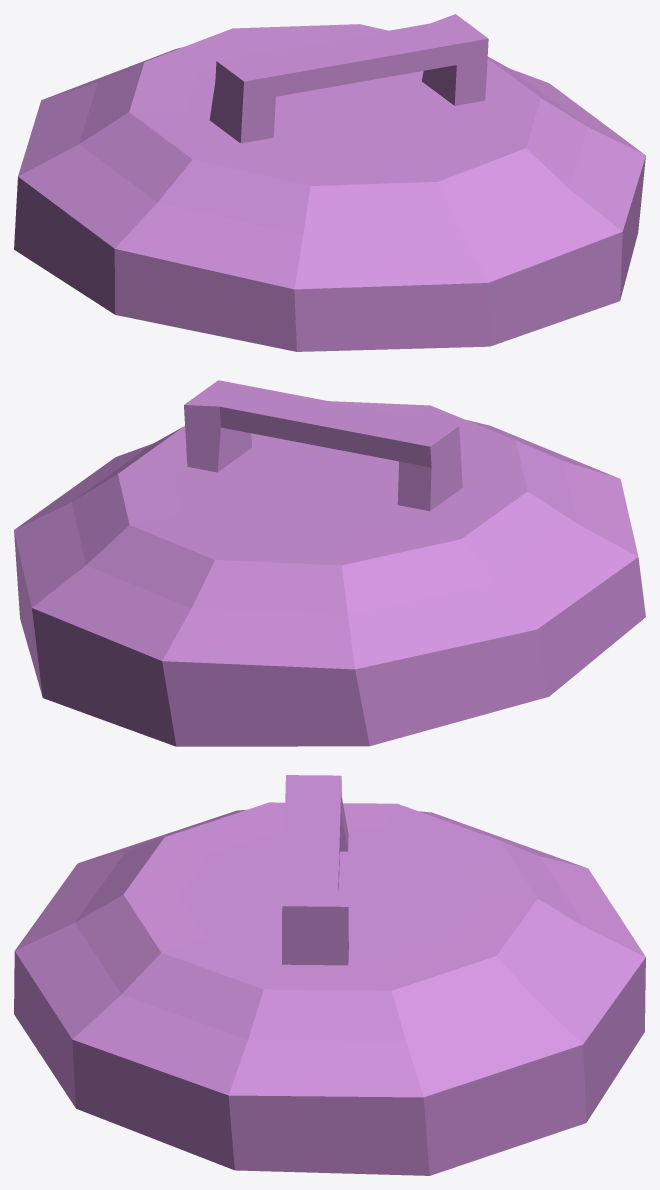
The model's file is trash5.fbx.
The picture shows the model from 3 angles, top to bottom: view 1: azimuth 30°, elevation 25°; view 2: azimuth 150°, elevation 25°; view 3: azimuth 270°, elevation 25°; orthographic projection.
Visible parts, largest first — view 1: group799439630; view 2: group799439630; view 3: group799439630.
Part boxes in pixels (box(x1,y1,x2,y2)): group799439630: box(14, 14, 645, 351); group799439630: box(14, 380, 645, 746); group799439630: box(14, 775, 645, 1175).
Bounding box in the file's own units: 44.96 × 18.34 × 46.69.
